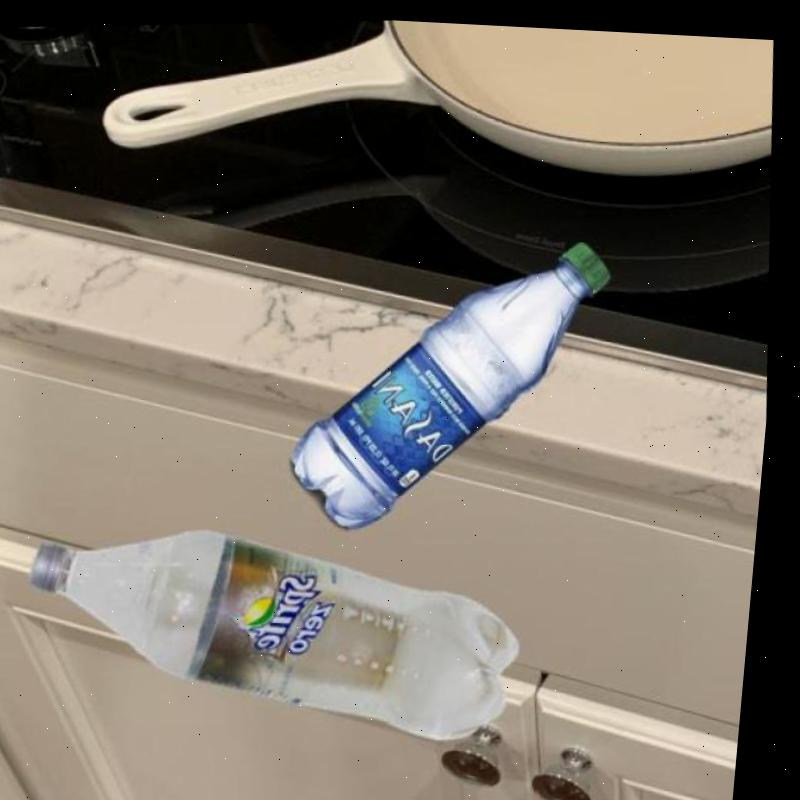botella: (23, 497, 550, 769), (284, 221, 634, 537)
